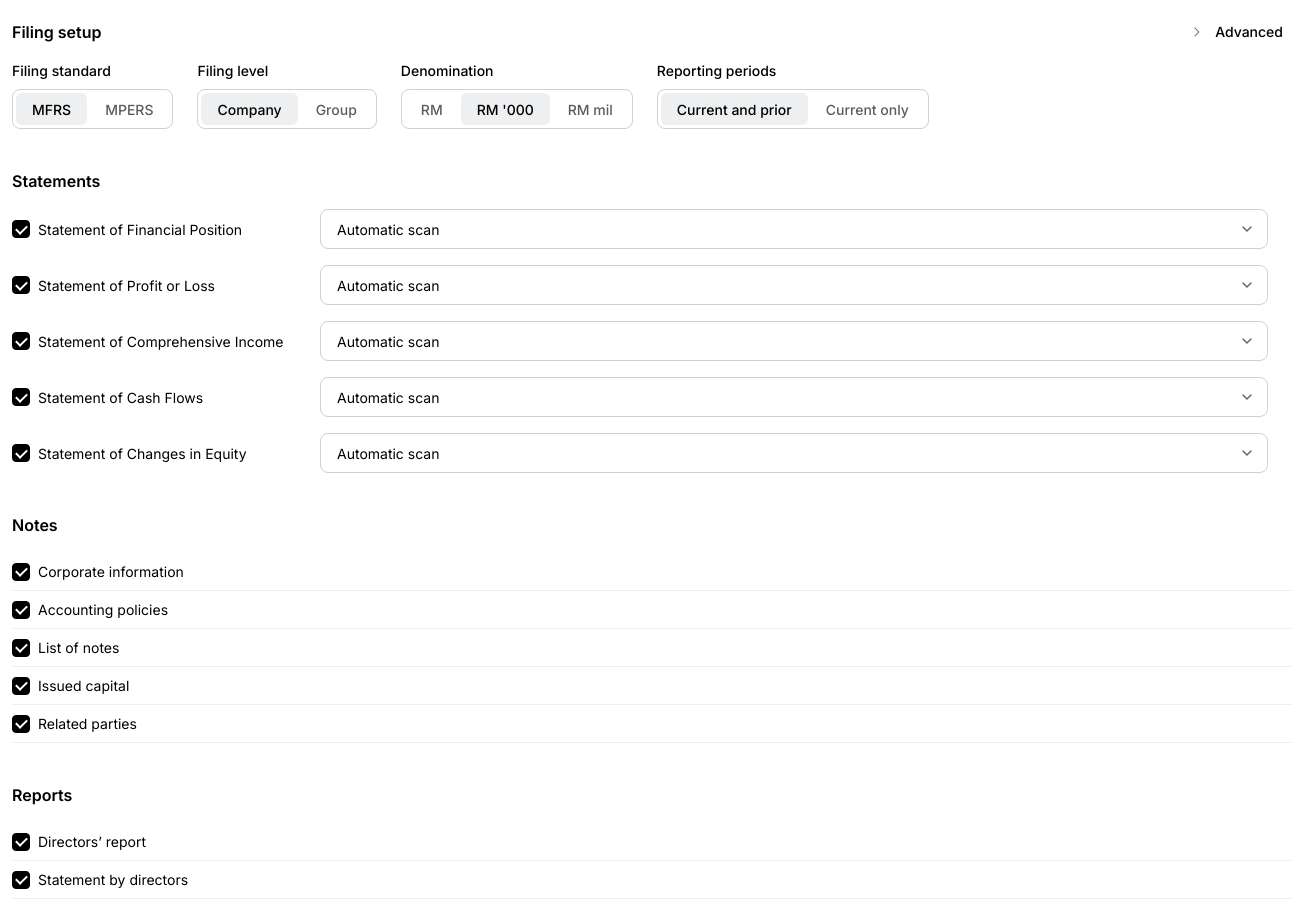
PreRunPanel › scout model dropdown initializes from settings.default_models.scout
Click the button with test id "advanced-toggle".
click(1235, 32)  # box [1178, 12, 1292, 52]
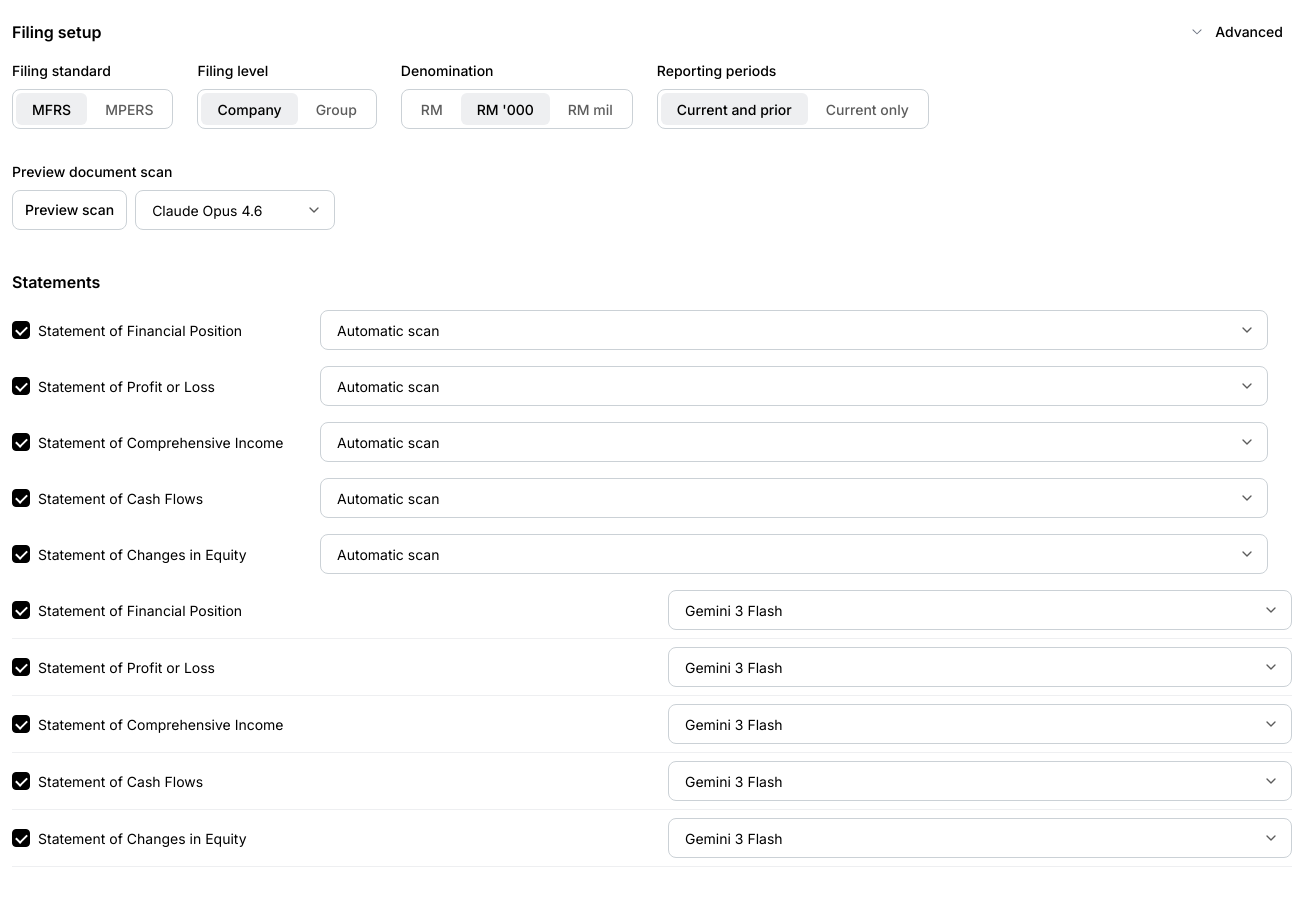
Check: the dropdown named "scout model" shows "Claude Opus 4.6", box [135, 190, 335, 230]
